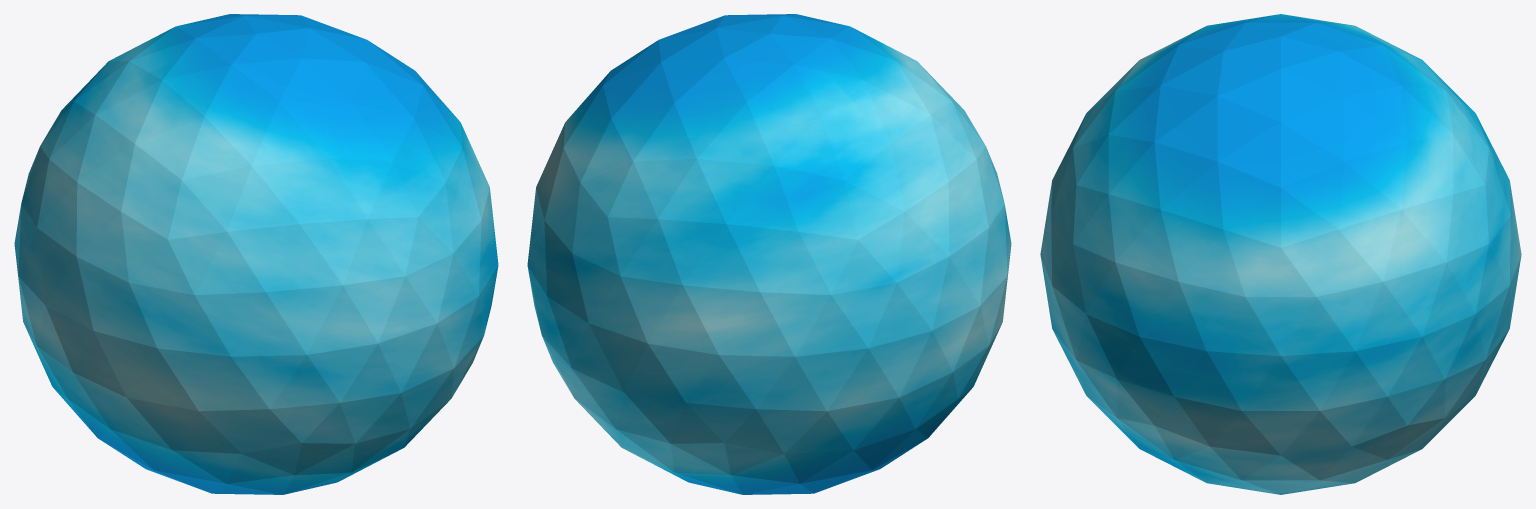
File: sky.obj
The picture shows the model from 3 angles, left to right: view 1: azimuth 30°, elevation 25°; view 2: azimuth 150°, elevation 25°; view 3: azimuth 270°, elevation 25°; orthographic projection.
Visible parts, largest first — view 1: Icosphere; view 2: Icosphere; view 3: Icosphere.
Boxes of the visible parts, x1,y1,x2,y2 form: Icosphere: (14,14,498,494); Icosphere: (527,14,1011,494); Icosphere: (1040,14,1521,494).
Size of the model in its own units: 128 by 128 by 128.
1 material, 1 textured.
